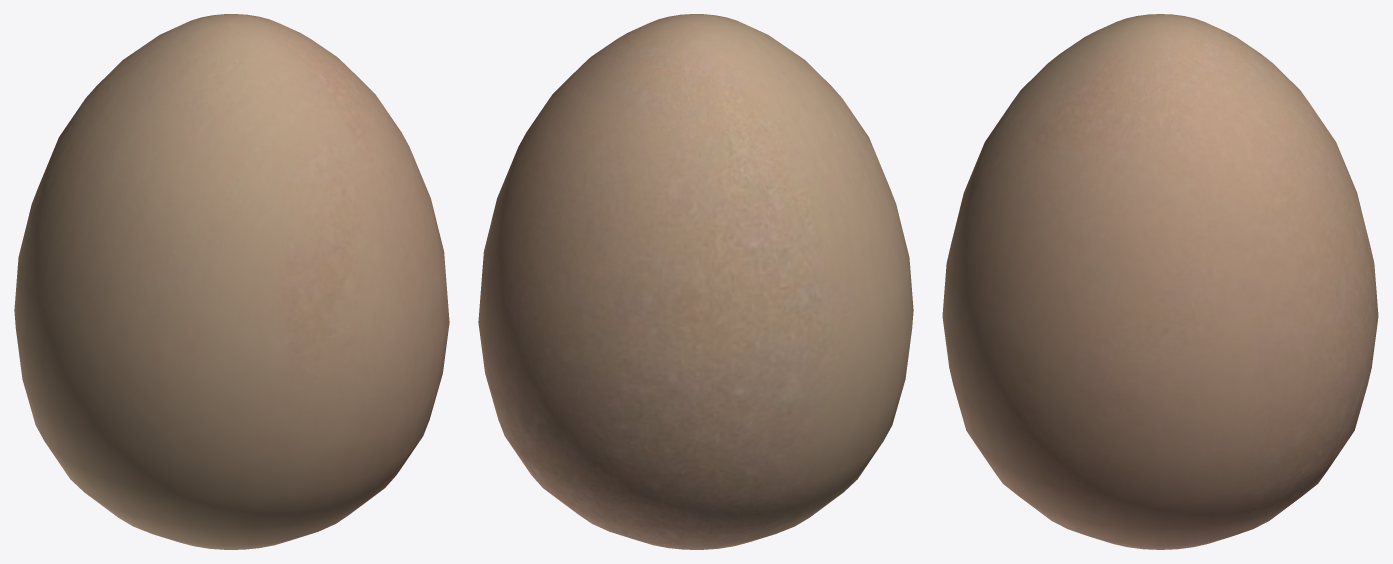
Rendered from egg.fbx.
The picture shows the model from 3 angles, left to right: view 1: azimuth 30°, elevation 25°; view 2: azimuth 150°, elevation 25°; view 3: azimuth 270°, elevation 25°; orthographic projection.
Visible parts, largest first — view 1: egg; view 2: egg; view 3: egg.
Boxes of the visible parts, x1,y1,x2,y2 form: egg: [14, 14, 449, 549]; egg: [478, 14, 913, 549]; egg: [942, 14, 1378, 549].
Size of the model in its own units: 2.29 by 2.93 by 2.29.
Materials: 1 (1 with a texture image).
